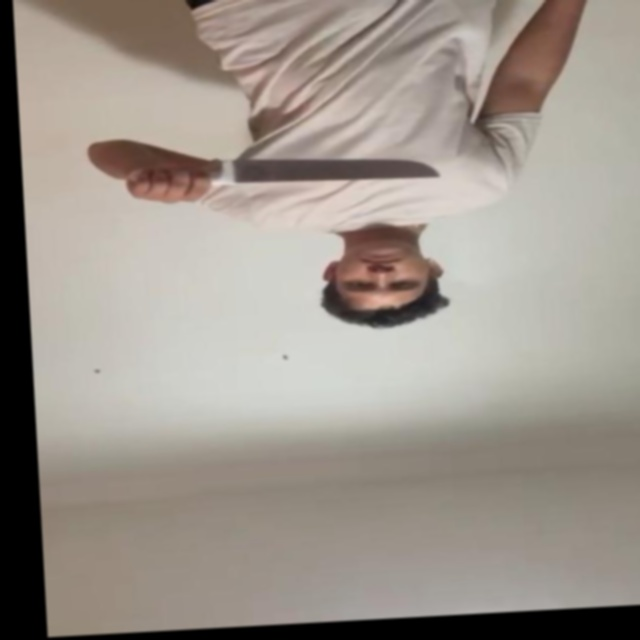Sharp-Object: (234, 147, 438, 191)
